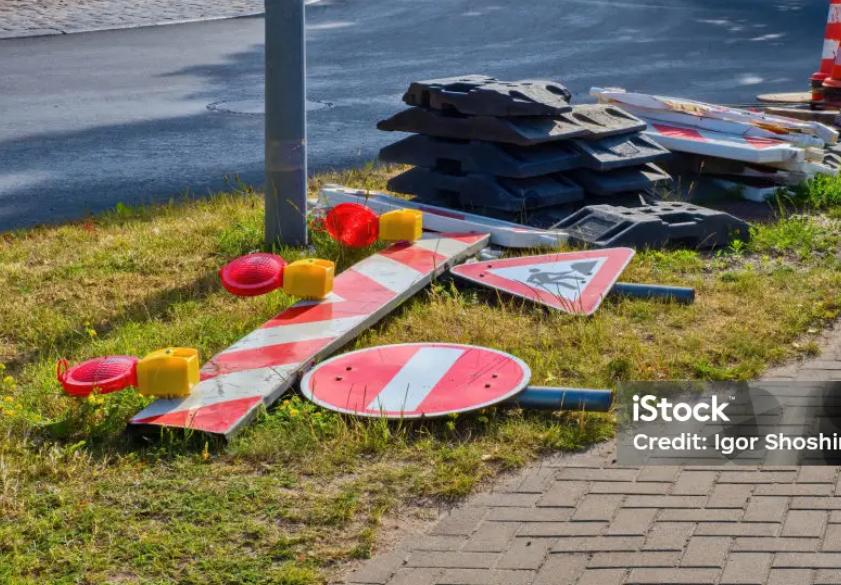obstructed_road_sign: (129, 230, 491, 436), (301, 343, 530, 418), (450, 248, 634, 314)
